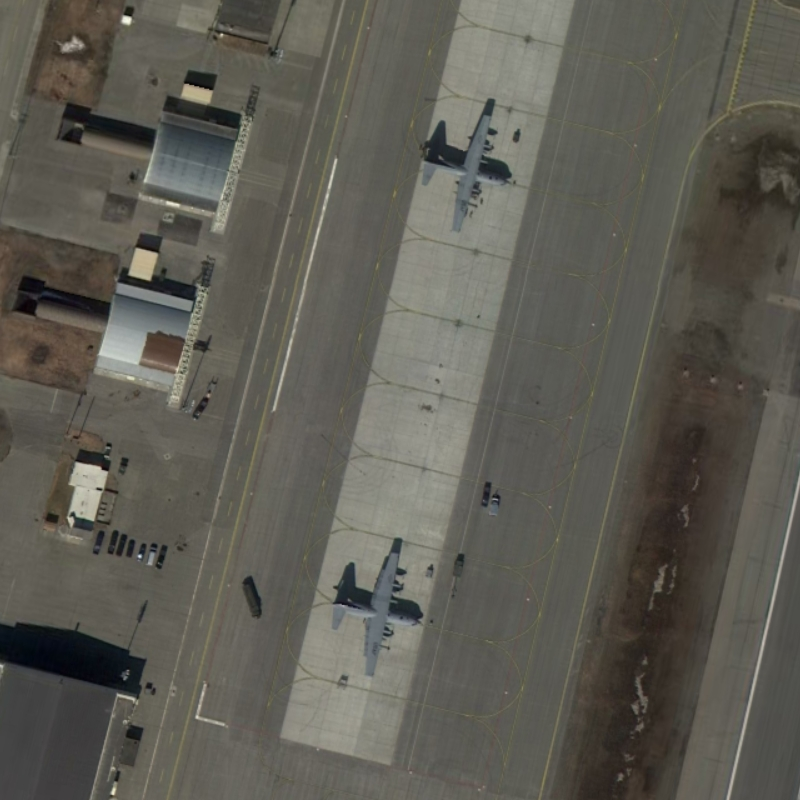A2: (325, 543, 433, 679), (414, 105, 520, 238)
